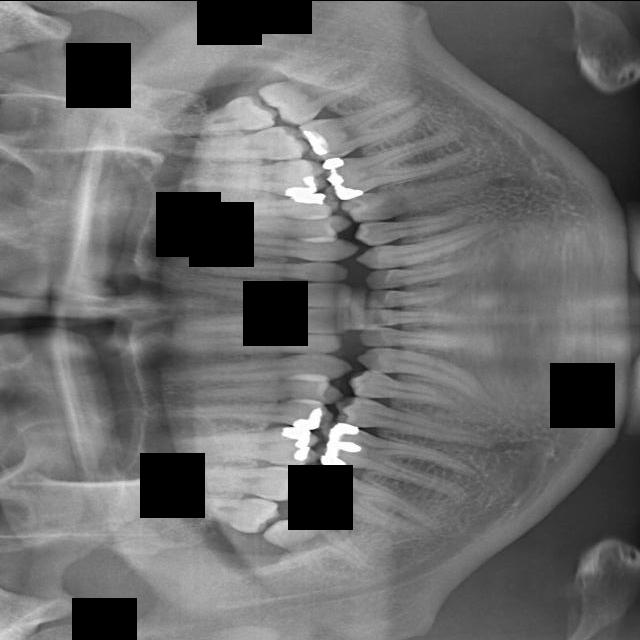3M ESPE Implant: (153, 494, 280, 533)
AGS Medikal Implant: (296, 79, 440, 167)
AMerOss Implant: (317, 124, 479, 203)
Amalgam filling: (153, 461, 310, 502)
Anthogyr Implant: (337, 167, 502, 227)
Bicon Implant: (353, 203, 480, 248)
BioHorizons Implant: (356, 217, 504, 277)
BioLife Implant: (365, 260, 467, 290)
Biomet 3i Implant: (367, 286, 453, 308)
Blue Sky Bio Implant: (362, 309, 459, 326)
Camlog Implant: (359, 327, 459, 346)
Caries: (189, 257, 348, 281)
Composite filling: (354, 333, 499, 405)
Cowellmedi Implant: (347, 368, 460, 409)
Crown: (331, 393, 499, 449)
DENTSPLY Implant: (170, 423, 319, 465)
Dentatus Implant: (312, 417, 480, 506)
Dentis Implant: (297, 460, 438, 536)
Dentium Implant: (261, 492, 368, 602)
Euroteknika Implant: (170, 393, 334, 430)
Filling: (186, 378, 344, 404)
Frontier Implant: (153, 353, 352, 383)
Hiossen Implant: (180, 233, 357, 261)
Implant: (188, 308, 351, 334)
Implant Direct: (179, 333, 342, 352)
Keystone Dental Implant: (178, 279, 352, 308)
MIS Implant: (187, 214, 352, 238)
Mandible: (171, 192, 332, 224)
Maxilla: (193, 157, 325, 202)
Megagen Implant: (154, 124, 304, 167)
Neodent Implant: (160, 93, 277, 134)
Neoss Implant: (255, 44, 389, 133)
